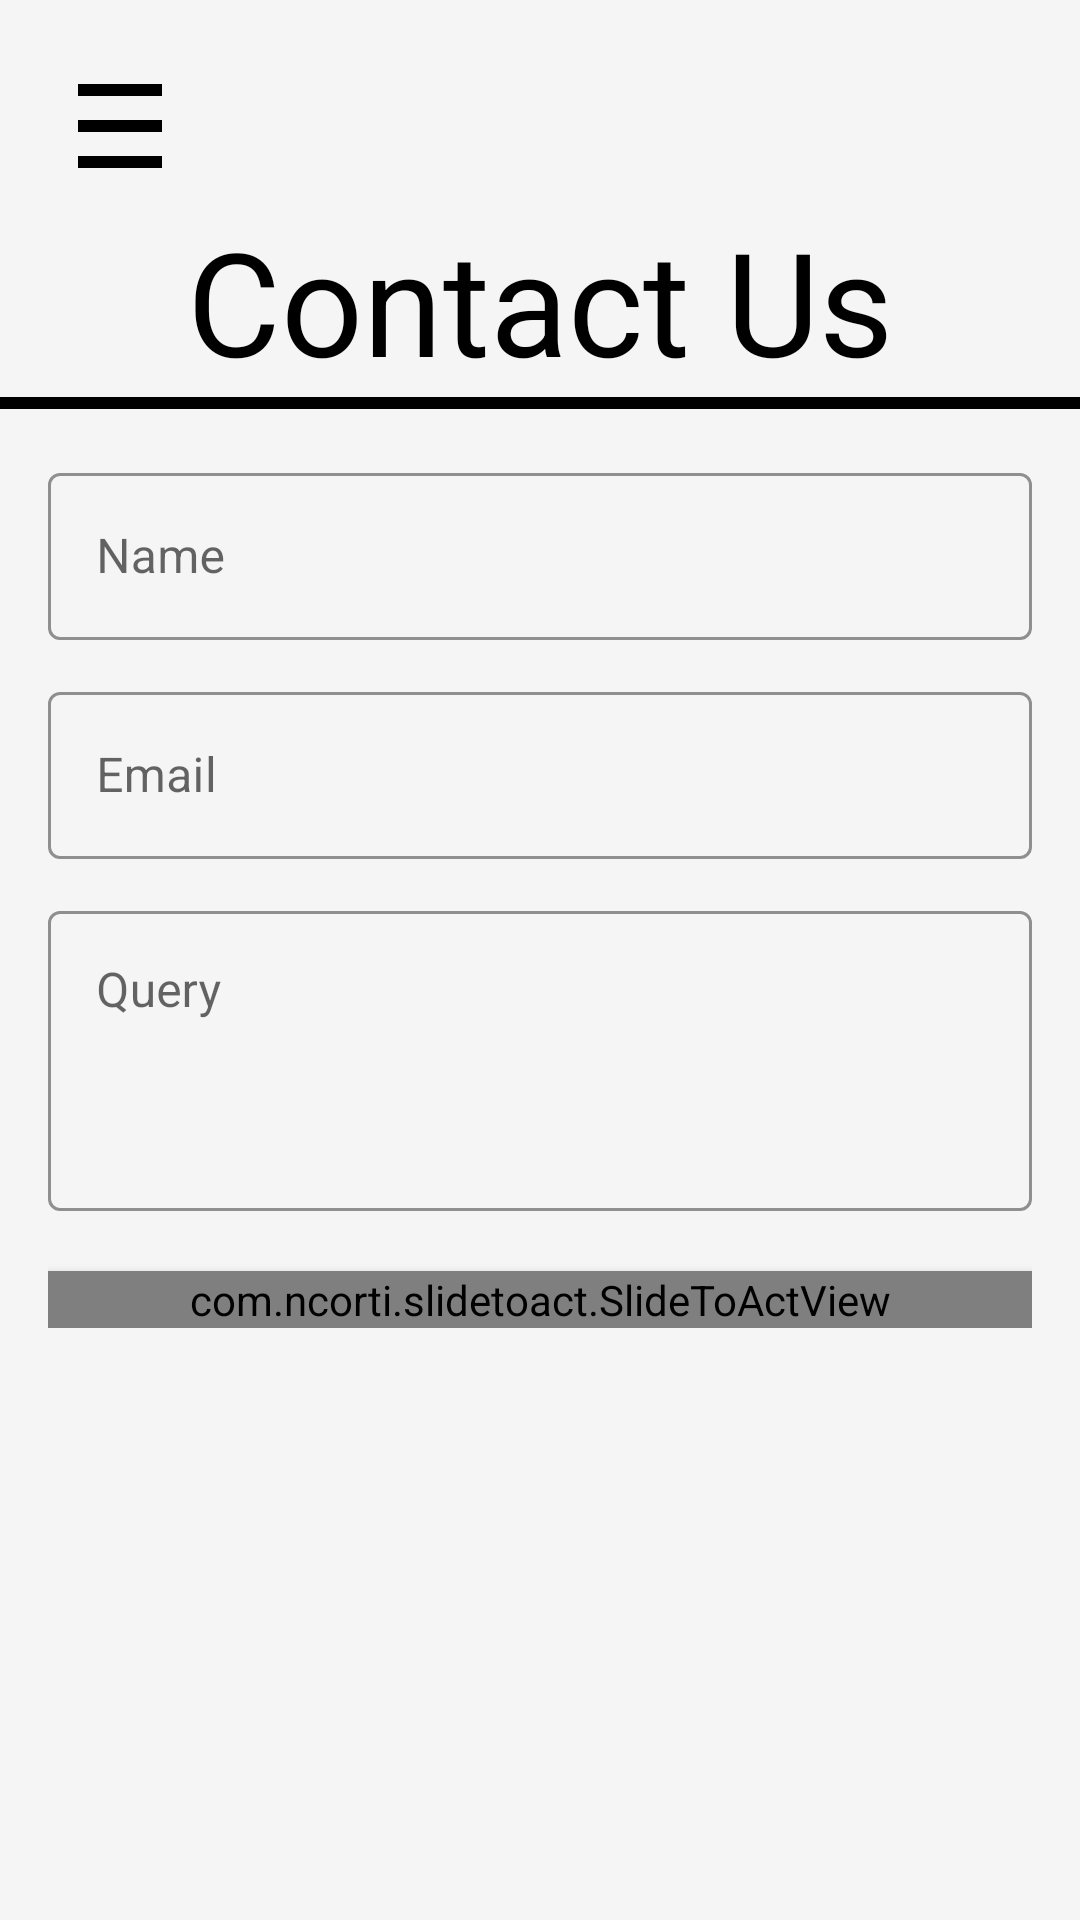

Screen size 1080 × 1920. Icon name, then its box in pixels as (x1, y1, x2, y2):
hamburger: (78, 84, 162, 168)
